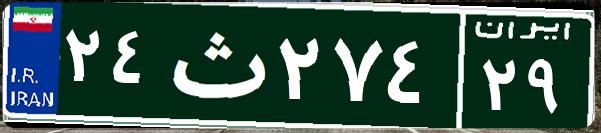2: (273, 28, 330, 110), (57, 26, 110, 107), (475, 38, 525, 113)
4: (385, 28, 445, 110), (110, 28, 158, 105)
7: (330, 28, 385, 110)
9: (525, 38, 570, 115)
ث: (158, 15, 273, 115)
